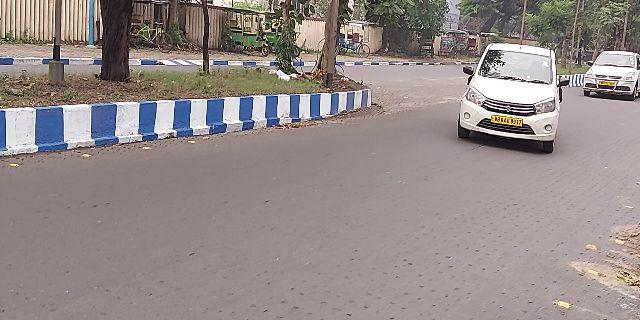Car: (455, 43, 565, 153), (583, 50, 637, 98)
